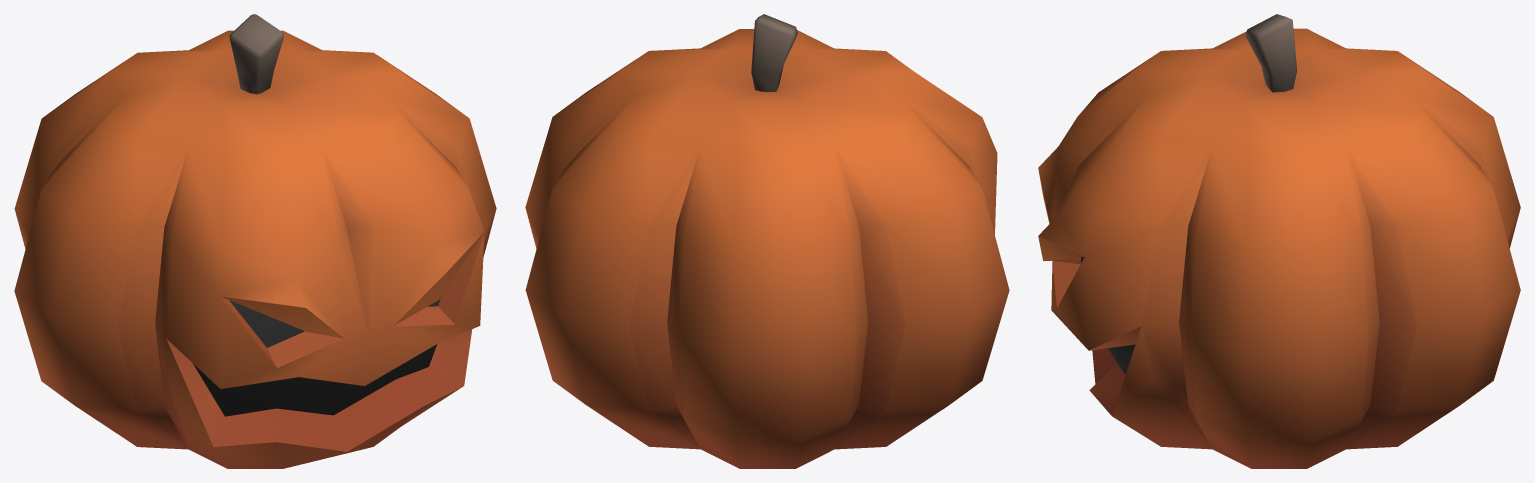
File: d_kaykit_citrouille_lanterne.glb
The picture shows the model from 3 angles, left to right: view 1: azimuth 30°, elevation 25°; view 2: azimuth 150°, elevation 25°; view 3: azimuth 270°, elevation 25°; orthographic projection.
Visible parts, largest first — view 1: d_kaykit_citrouille_lanterne; view 2: d_kaykit_citrouille_lanterne; view 3: d_kaykit_citrouille_lanterne.
Part boxes in pixels (x1,y1,x2,y2): d_kaykit_citrouille_lanterne: [14, 14, 496, 468]; d_kaykit_citrouille_lanterne: [525, 14, 1009, 468]; d_kaykit_citrouille_lanterne: [1038, 14, 1520, 468].
Bounding box in the file's own units: 1.5 × 1.3 × 1.4.
1 material, 1 textured.
